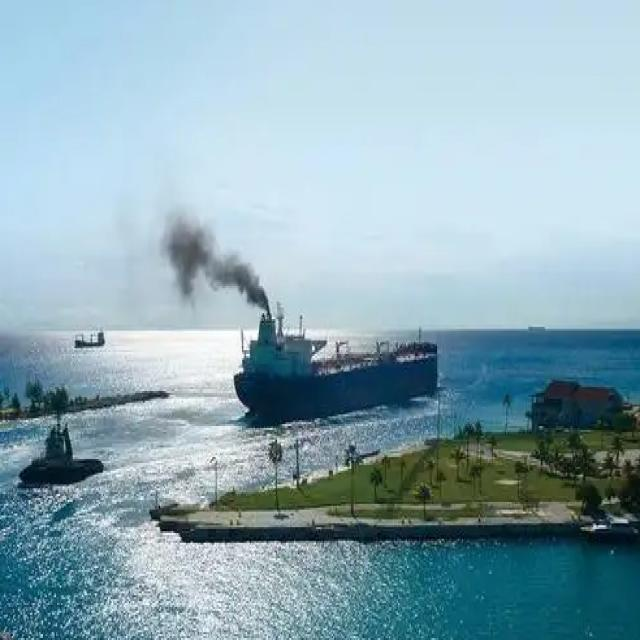cargoship: (233, 308, 441, 416)
fishing boat: (66, 325, 109, 357)
